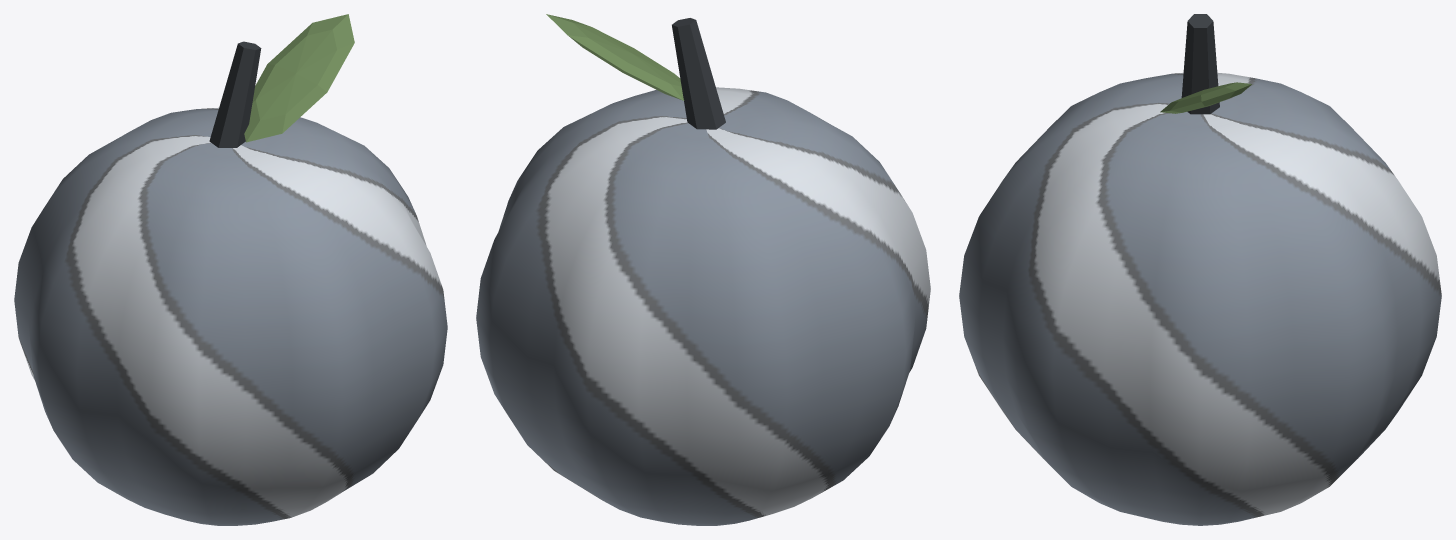
The model's file is Fruit_SupaSupa.fbx.
3 views of the same model, side by side, from view 1: azimuth 30°, elevation 25°; view 2: azimuth 150°, elevation 25°; view 3: azimuth 270°, elevation 25° (orthographic). The views are drawn at different scales.
Visible parts, largest first — view 1: Fruit_SupaSupa; view 2: Fruit_SupaSupa; view 3: Fruit_SupaSupa.
Boxes of the visible parts, <box> form: Fruit_SupaSupa: <box>14,14,447,525</box>; Fruit_SupaSupa: <box>476,14,930,525</box>; Fruit_SupaSupa: <box>959,14,1441,525</box>.
Bounding box in the file's own units: 1.68 × 1.9 × 1.68.
Materials: 1 (1 with a texture image).
